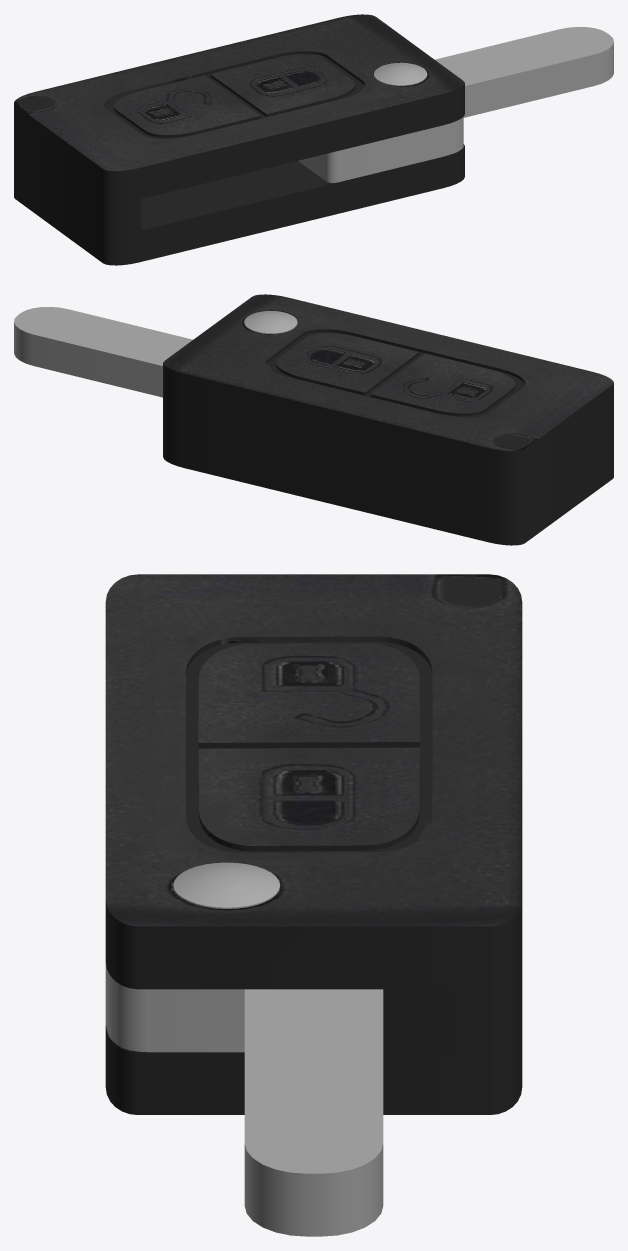
The model's file is autoschlüssel-kubesch.glb.
3 renders of one model, top to bottom at view 1: azimuth 30°, elevation 25°; view 2: azimuth 150°, elevation 25°; view 3: azimuth 270°, elevation 25°, orthographic. The views are drawn at different scales.
Parts seen in each view (by area): view 1: Cube, Cube.001, Cylinder; view 2: Cube, Cube.001, Cylinder; view 3: Cube, Cube.001, Cylinder.
Boxes of the visible parts, left/top/right/bottom form: Cube: left=14, top=14, right=464, bottom=265; Cube.001: left=298, top=27, right=613, bottom=182; Cylinder: left=374, top=62, right=427, bottom=85; Cube: left=163, top=294, right=613, bottom=545; Cube.001: left=14, top=307, right=192, bottom=397; Cylinder: left=244, top=311, right=297, bottom=333; Cube: left=105, top=574, right=522, bottom=1114; Cube.001: left=105, top=962, right=383, bottom=1236; Cylinder: left=173, top=862, right=280, bottom=908.
Bounding box in the file's own units: 91.43 × 15.79 × 30.
Materials: 2 (1 with a texture image).
